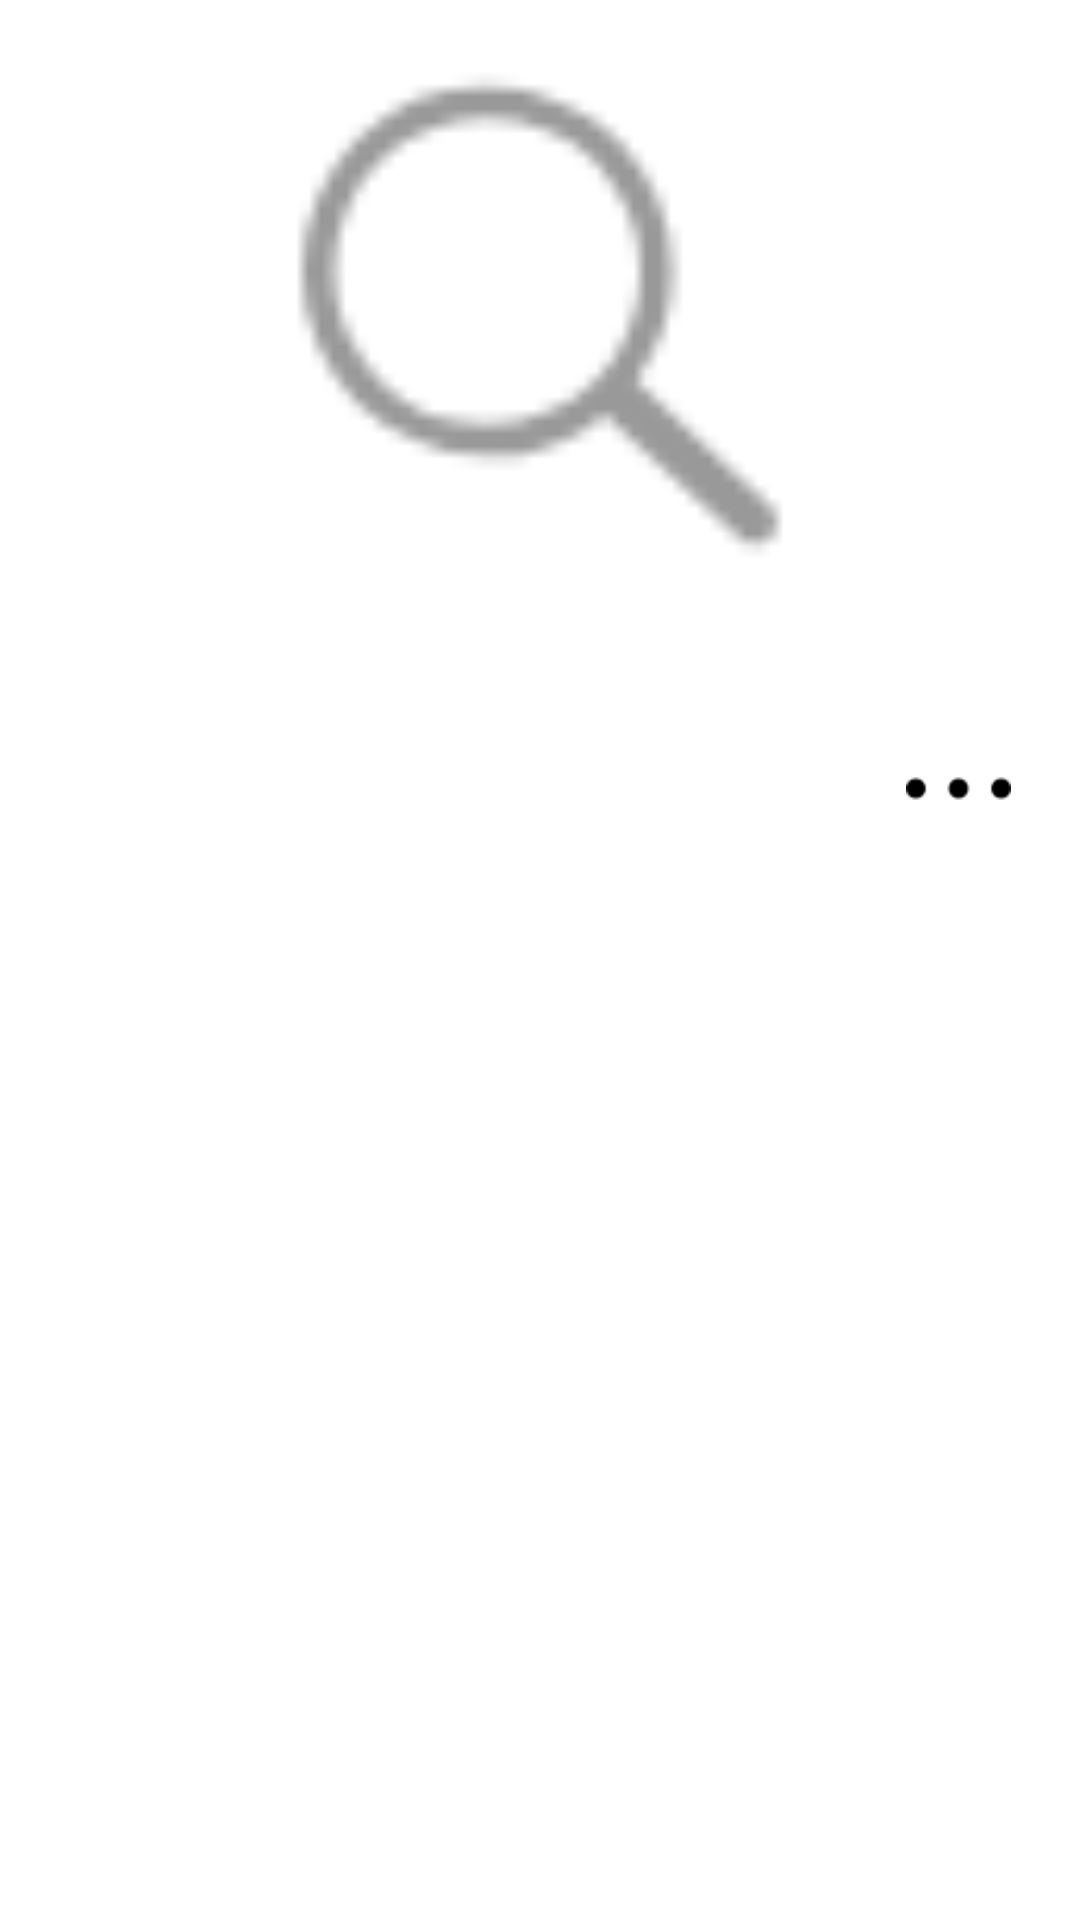

Point at icon controls on the screen. Image size 1080px×1920px, points as point (x, y).
geng duo: point (958, 788)
